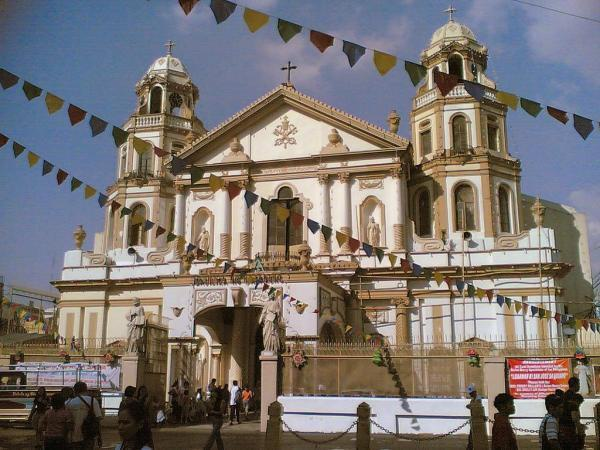quiapo_church_quiapo_manila: (53, 3, 548, 397)
